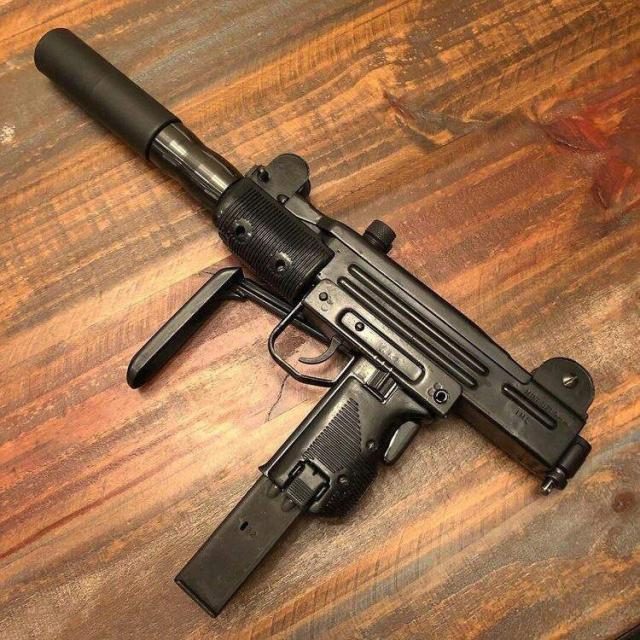SMG: (32, 29, 596, 620)
